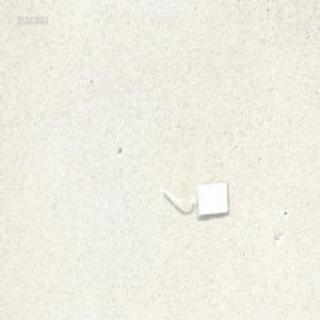LuggageTagtrack_idkeyframe: (157, 178, 227, 220)
